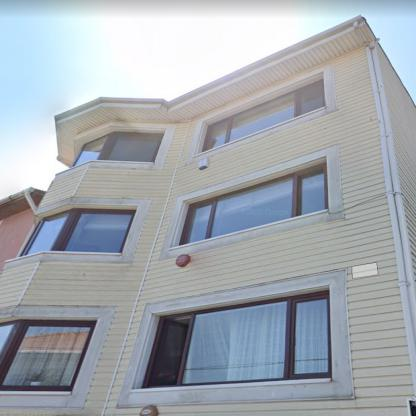window: (145, 294, 329, 388), (184, 166, 325, 244), (202, 80, 324, 152), (0, 322, 96, 388), (18, 208, 136, 256), (72, 131, 164, 167)
